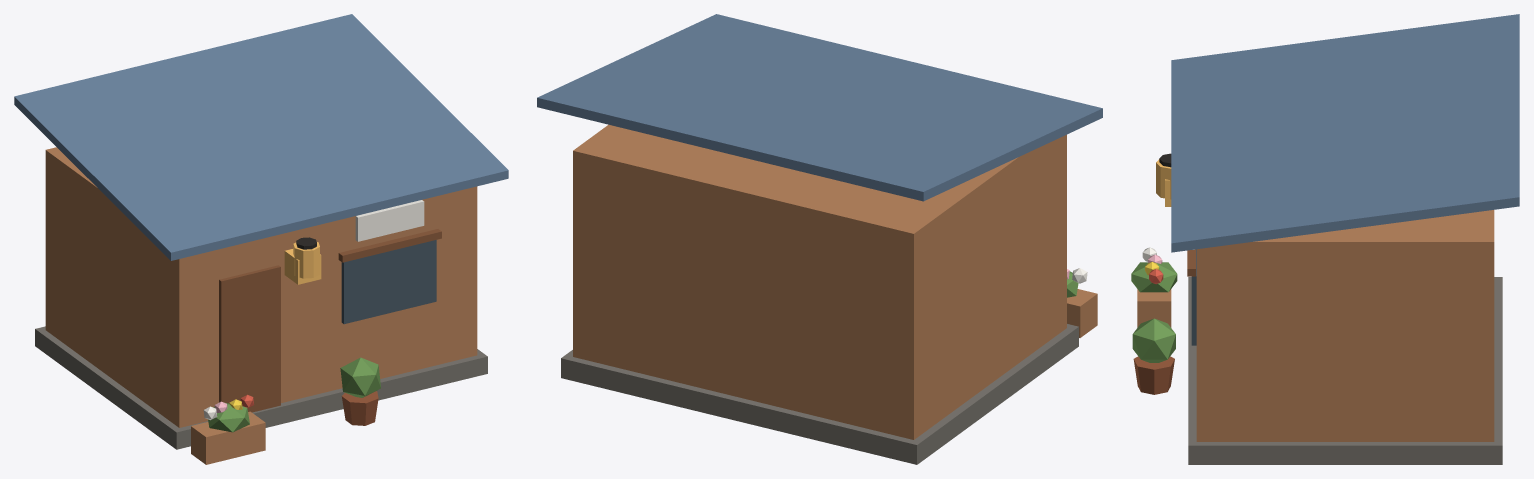
Rendered from office_hut_s1.fbx.
3 views of the same model, side by side, from view 1: azimuth 30°, elevation 25°; view 2: azimuth 150°, elevation 25°; view 3: azimuth 270°, elevation 25° (orthographic). The views are drawn at different scales.
Parts seen in each view (by area): view 1: office_hut_s1; view 2: office_hut_s1; view 3: office_hut_s1.
Part boxes in pixels (box(x1,y1,x2,y2)): office_hut_s1: box(14, 14, 508, 464); office_hut_s1: box(537, 14, 1102, 464); office_hut_s1: box(1131, 14, 1519, 464).
Size of the model in its own units: 5.1 by 3.57 by 4.57.
Materials: 2 (2 with a texture image).
